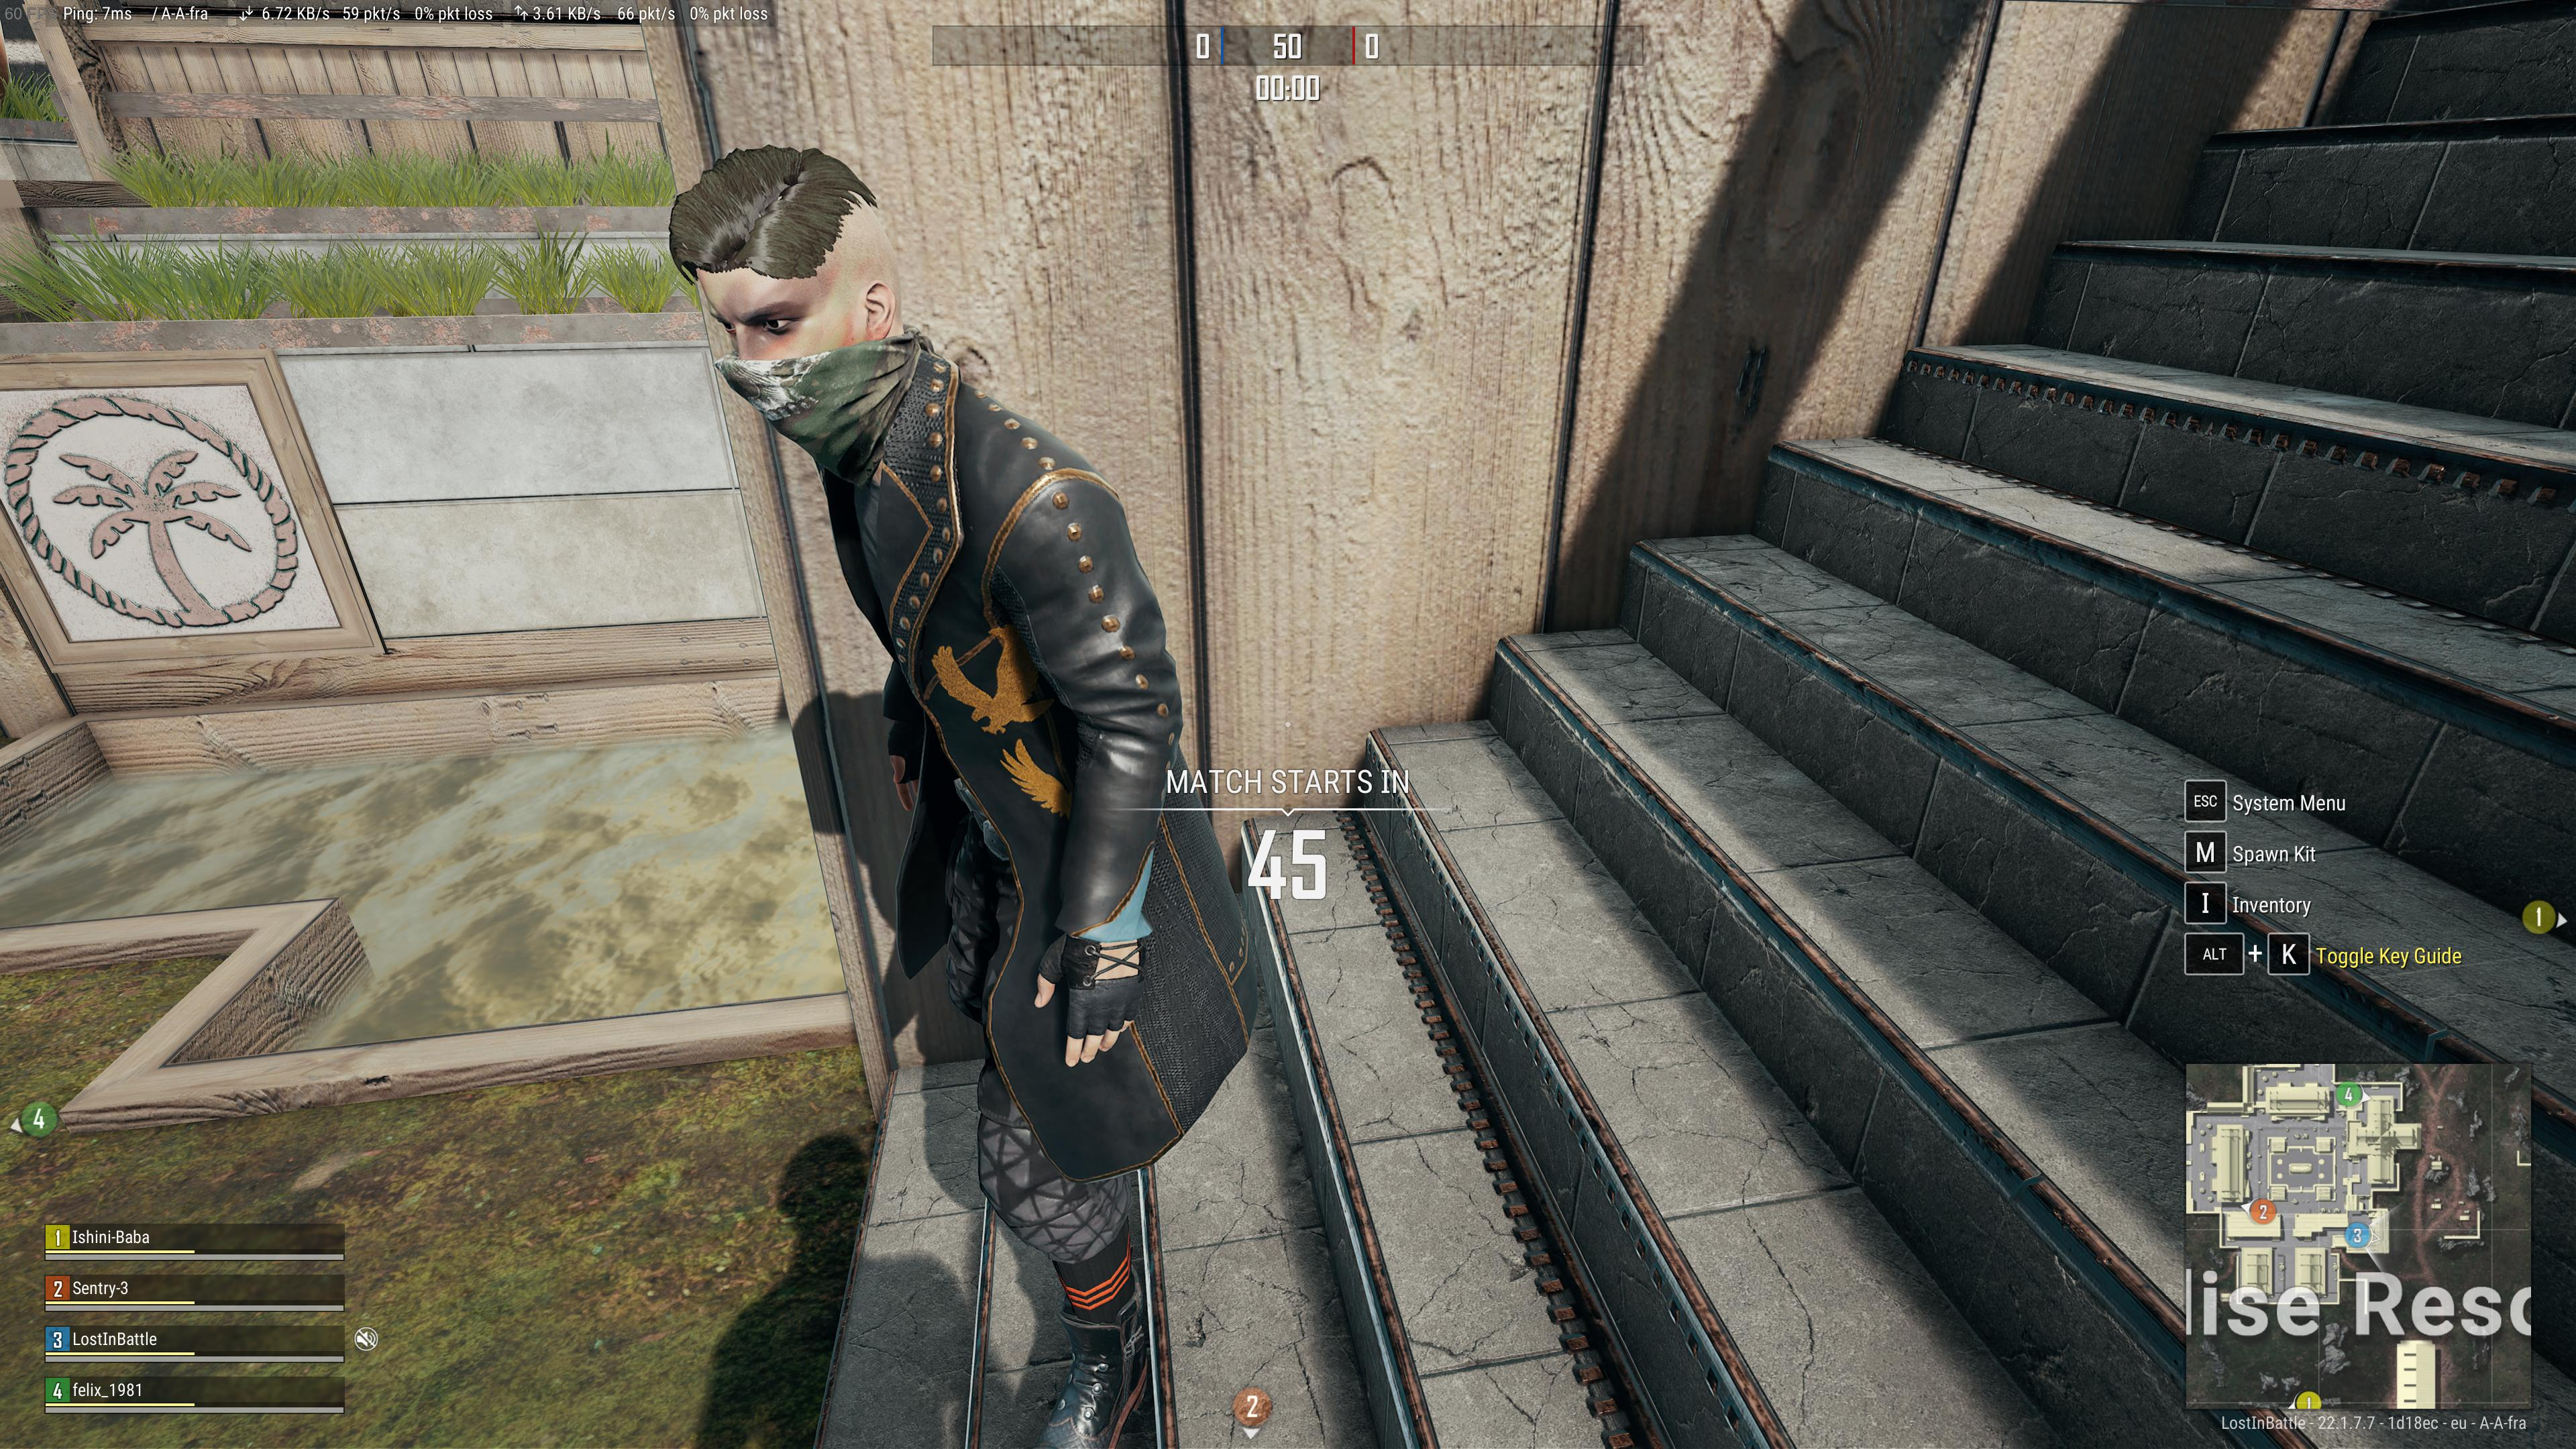enemy: (649, 126, 1238, 1449)
enemy_head: (660, 142, 920, 460)
